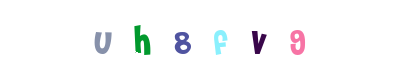8: (153, 0, 233, 80)
9: (257, 0, 337, 80)
F: (165, 0, 245, 80)
H: (111, 0, 191, 80)
U: (101, 0, 181, 80)
V: (218, 0, 298, 80)
